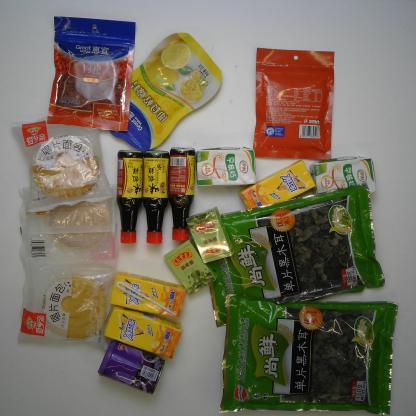Candy: (163, 241, 215, 293), (185, 207, 234, 262)
Canned Food: (96, 343, 164, 394)
Dessert: (9, 112, 113, 211), (18, 184, 117, 268), (17, 260, 111, 345)
Dried Food: (194, 183, 386, 330), (216, 293, 396, 412)
Dried Fruit: (101, 32, 224, 150), (44, 14, 137, 136), (252, 46, 335, 161)
Drink: (239, 159, 314, 216), (102, 306, 183, 358), (109, 271, 185, 317)
Milk: (312, 156, 375, 198), (195, 146, 257, 186)
Seasoner: (116, 148, 143, 245), (168, 148, 194, 242), (143, 150, 168, 244)
